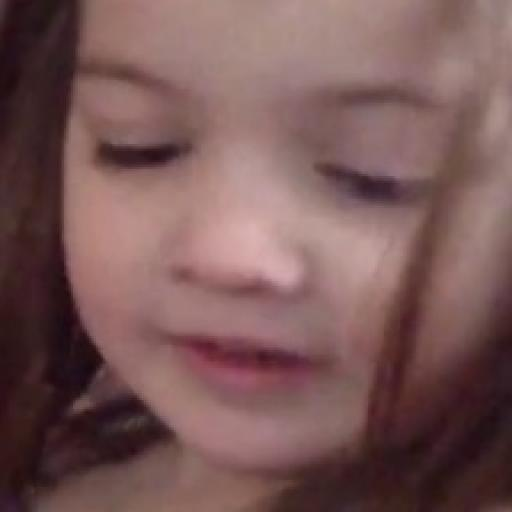Autism: (81, 0, 498, 455)
